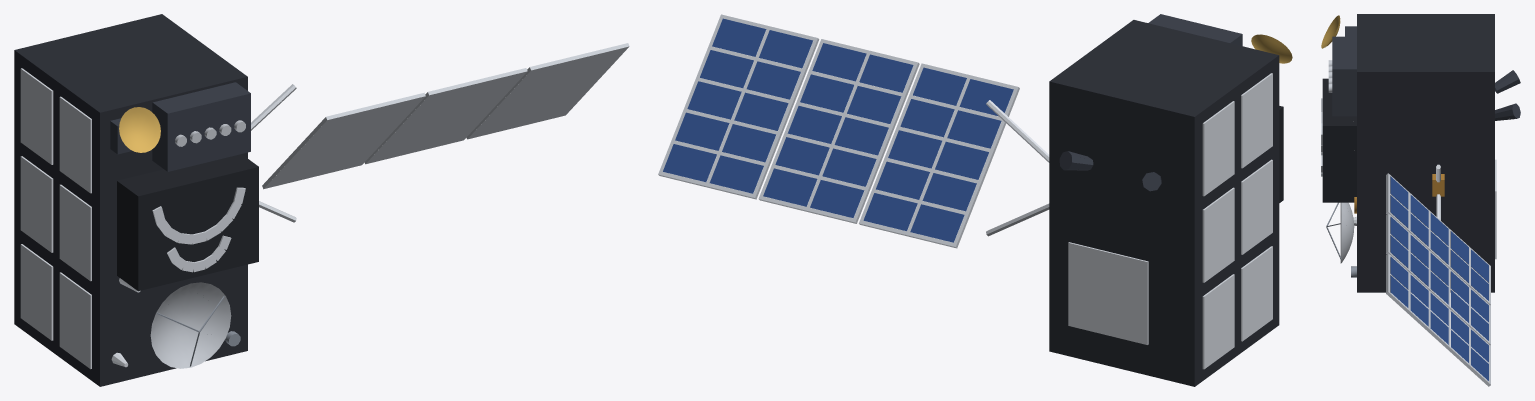
The model's file is sentinel-3.glb.
The picture shows the model from 3 angles, left to right: view 1: azimuth 30°, elevation 25°; view 2: azimuth 150°, elevation 25°; view 3: azimuth 270°, elevation 25°; orthographic projection. The views are drawn at different scales.
Parts seen in each view (by area): view 1: body, foil; view 2: foil, solar-panel, body; view 3: foil, body, solar-panel.
Boxes of the visible parts, x1,y1,x2,y2 form: body: (20,43,629,369); foil: (14,14,247,386); foil: (1049,20,1279,386); solar-panel: (663,18,1013,242); body: (658,14,1292,369); foil: (1357,14,1494,292); body: (1321,15,1520,386); solar-panel: (1390,176,1488,380).
Size of the model in its own units: 8.17 by 4.13 by 3.2.
